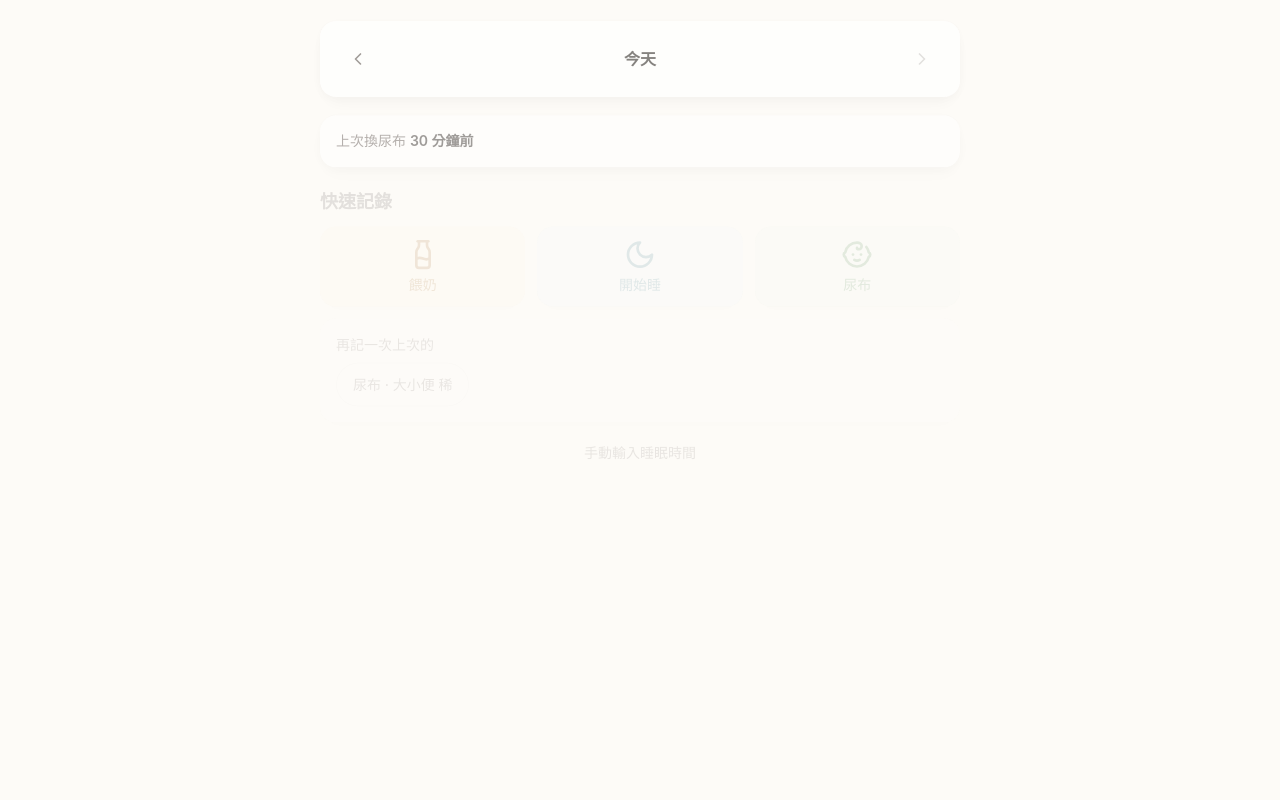
Scenario: 沿用上一筆 › 尿布表單也帶出這個孩子上次的類型與性狀
Click the button "尿布": (857, 266) top-left (755, 226), bottom-right (960, 306)
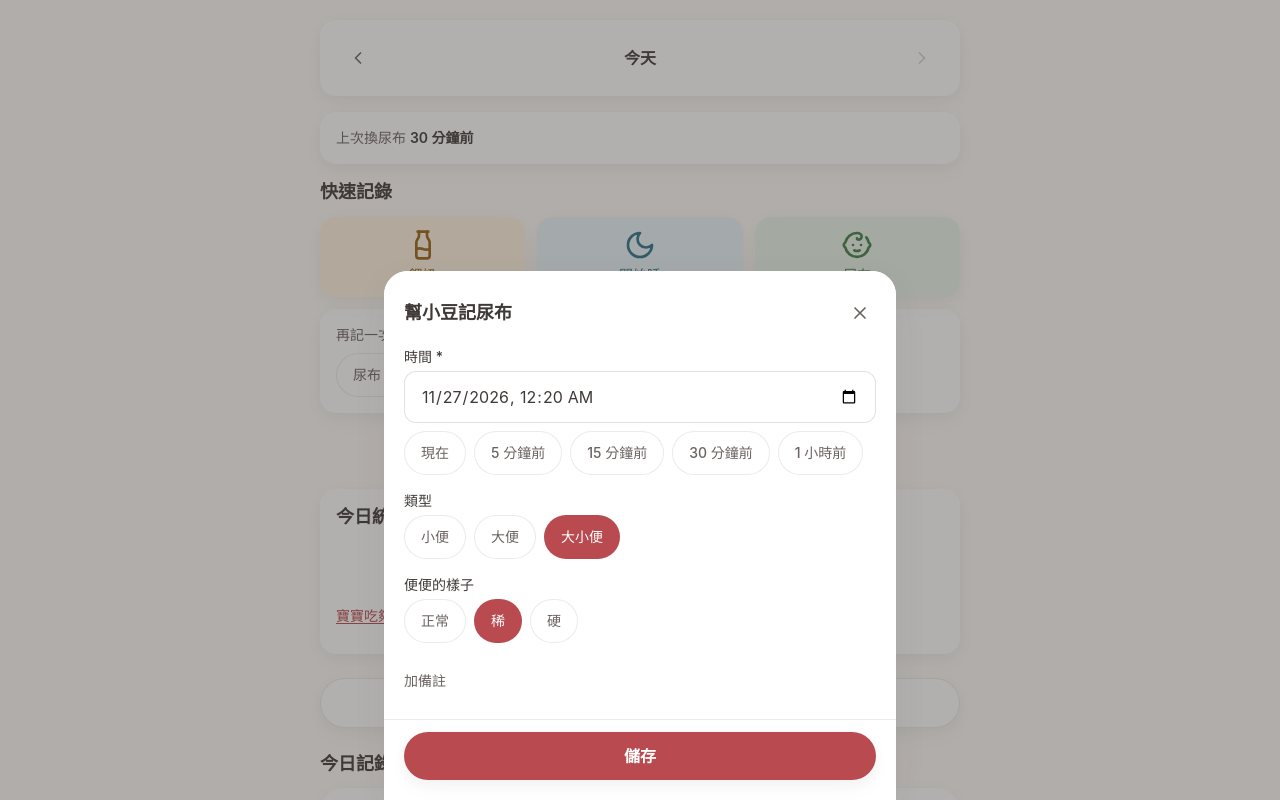
Now the radio button labelled "大小便" is checked, box top-left (544, 515), bottom-right (620, 559)
Now the radio button labelled "稀" is checked, box top-left (474, 599), bottom-right (522, 643)
